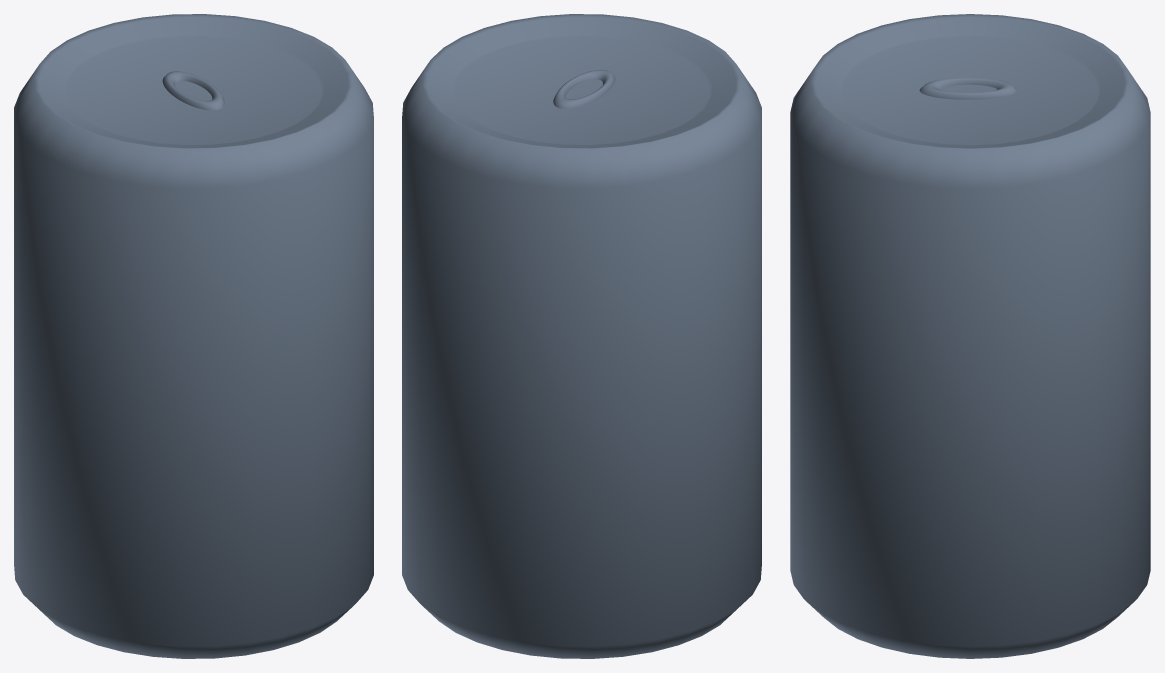
File: EmptyCan.fbx
The picture shows the model from 3 angles, left to right: view 1: azimuth 30°, elevation 25°; view 2: azimuth 150°, elevation 25°; view 3: azimuth 270°, elevation 25°; orthographic projection.
Visible parts, largest first — view 1: Cylinder, Torus; view 2: Cylinder, Torus; view 3: Cylinder, Torus.
Boxes of the visible parts, bbox=[...] form: Cylinder: bbox=[14, 14, 373, 658]; Torus: bbox=[162, 71, 224, 110]; Cylinder: bbox=[402, 14, 761, 658]; Torus: bbox=[553, 69, 615, 108]; Cylinder: bbox=[790, 14, 1150, 658]; Torus: bbox=[919, 77, 1016, 99].
Size of the model in its own units: 20 by 31.75 by 20.
